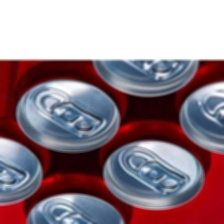can: (96, 97, 215, 212), (14, 61, 129, 155), (0, 58, 50, 206), (21, 164, 133, 224), (173, 59, 223, 157), (89, 59, 203, 100)
